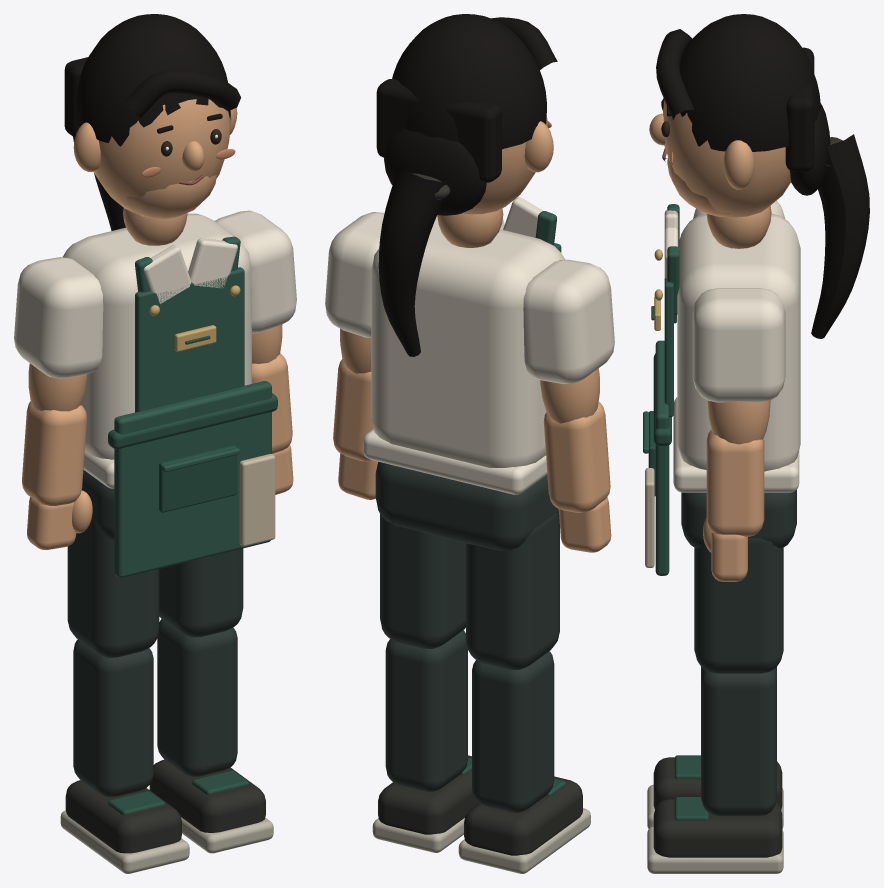
Rendered from barista-female.glb.
The picture shows the model from 3 angles, left to right: view 1: azimuth 30°, elevation 25°; view 2: azimuth 150°, elevation 25°; view 3: azimuth 270°, elevation 25°; orthographic projection. The views are drawn at different scales.
Parts seen in each view (by area): view 1: Spine_crew_apron, Spine_crew_shirt, Head_crew_hair, Head_crew_skin, LeftKnee_crew_trousers, RightKnee_crew_trousers, LeftShoulder_crew_shirt, LeftHip_crew_trousers, RightHip_crew_trousers, Spine_crew_seam, LeftElbow_crew_skin, RightShoulder_crew_shirt (+16 smaller); view 2: Spine_crew_shirt, Head_crew_hair, LongHair_crew_hair, LeftKnee_crew_trousers, RightKnee_crew_trousers, LeftHip_crew_trousers, Hips_crew_trousers, LeftShoulder_crew_shirt, RightHip_crew_trousers, LeftElbow_crew_skin, RightShoulder_crew_shirt, LeftAnkle_crew_shoes (+11 smaller); view 3: Spine_crew_shirt, Head_crew_hair, RightKnee_crew_trousers, LongHair_crew_hair, RightHip_crew_trousers, RightShoulder_crew_shirt, Head_crew_skin, RightAnkle_crew_shoes, RightElbow_crew_skin, Spine_crew_apron, Hips_crew_trousers, RightAnkle_crew_soles (+8 smaller).
Boxes of the visible parts, bbox=[...] form: Spine_crew_apron: bbox=[114, 236, 271, 577]; Spine_crew_shirt: bbox=[63, 213, 251, 488]; Head_crew_hair: bbox=[64, 14, 230, 146]; Head_crew_skin: bbox=[73, 99, 237, 219]; LeftKnee_crew_trousers: bbox=[73, 639, 153, 797]; RightKnee_crew_trousers: bbox=[157, 619, 237, 776]; LeftShoulder_crew_shirt: bbox=[14, 257, 103, 378]; LeftHip_crew_trousers: bbox=[67, 519, 159, 657]; RightHip_crew_trousers: bbox=[159, 548, 243, 637]; Spine_crew_seam: bbox=[108, 335, 277, 512]; LeftElbow_crew_skin: bbox=[22, 401, 86, 505]; RightShoulder_crew_shirt: bbox=[215, 210, 296, 333]; Spine_crew_shirt: bbox=[363, 197, 564, 494]; Head_crew_hair: bbox=[376, 14, 546, 182]; LongHair_crew_hair: bbox=[378, 17, 557, 356]; LeftKnee_crew_trousers: bbox=[472, 651, 554, 812]; RightKnee_crew_trousers: bbox=[385, 630, 467, 791]; LeftHip_crew_trousers: bbox=[466, 513, 559, 669]; Hips_crew_trousers: bbox=[375, 462, 558, 550]; LeftShoulder_crew_shirt: bbox=[523, 259, 614, 384]; RightHip_crew_trousers: bbox=[380, 514, 465, 648]; LeftElbow_crew_skin: bbox=[543, 402, 610, 512]; RightShoulder_crew_shirt: bbox=[325, 212, 384, 337]; LeftAnkle_crew_shoes: bbox=[464, 776, 582, 855]; Spine_crew_shirt: bbox=[664, 210, 800, 492]; Head_crew_hair: bbox=[667, 14, 820, 171]; RightKnee_crew_trousers: bbox=[701, 667, 776, 816]; LongHair_crew_hair: bbox=[656, 29, 869, 338]; RightHip_crew_trousers: bbox=[694, 538, 783, 673]; RightShoulder_crew_shirt: bbox=[692, 288, 785, 402]; Head_crew_skin: bbox=[649, 100, 791, 217]; RightAnkle_crew_shoes: bbox=[653, 799, 782, 857]; RightElbow_crew_skin: bbox=[706, 429, 764, 536]; Spine_crew_apron: bbox=[643, 204, 679, 575]; Hips_crew_trousers: bbox=[681, 490, 796, 548]; RightAnkle_crew_soles: bbox=[647, 826, 783, 873].
Bounding box in the file's own units: 0.5761 × 1.72 × 0.4323.
